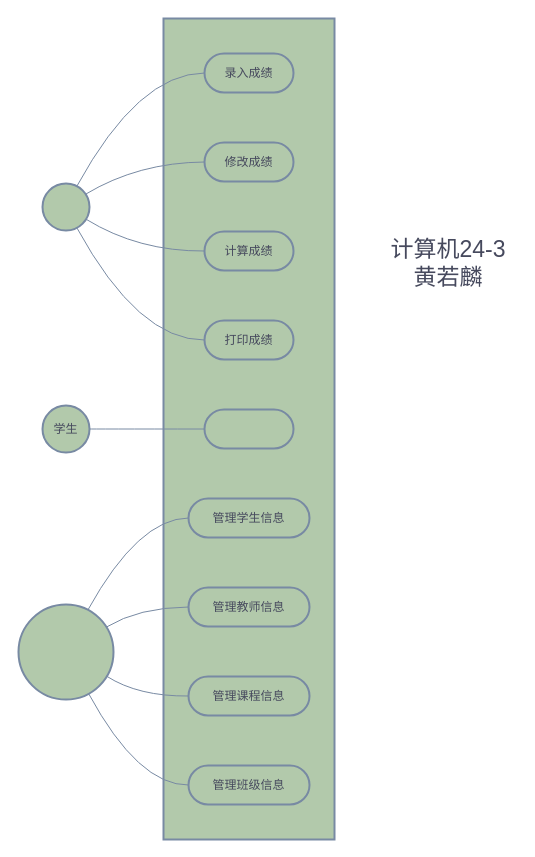
Some shapes in this 535 by 857 pixel diagram are drawn without their labels. The shapes that lost their labels are listed below. From the top down, each one's centre as x and y in pixels, then its label:
At pixel 65 206: "教师".
At pixel 248 428: "查询成绩".
At pixel 65 651: "系统管理员".
